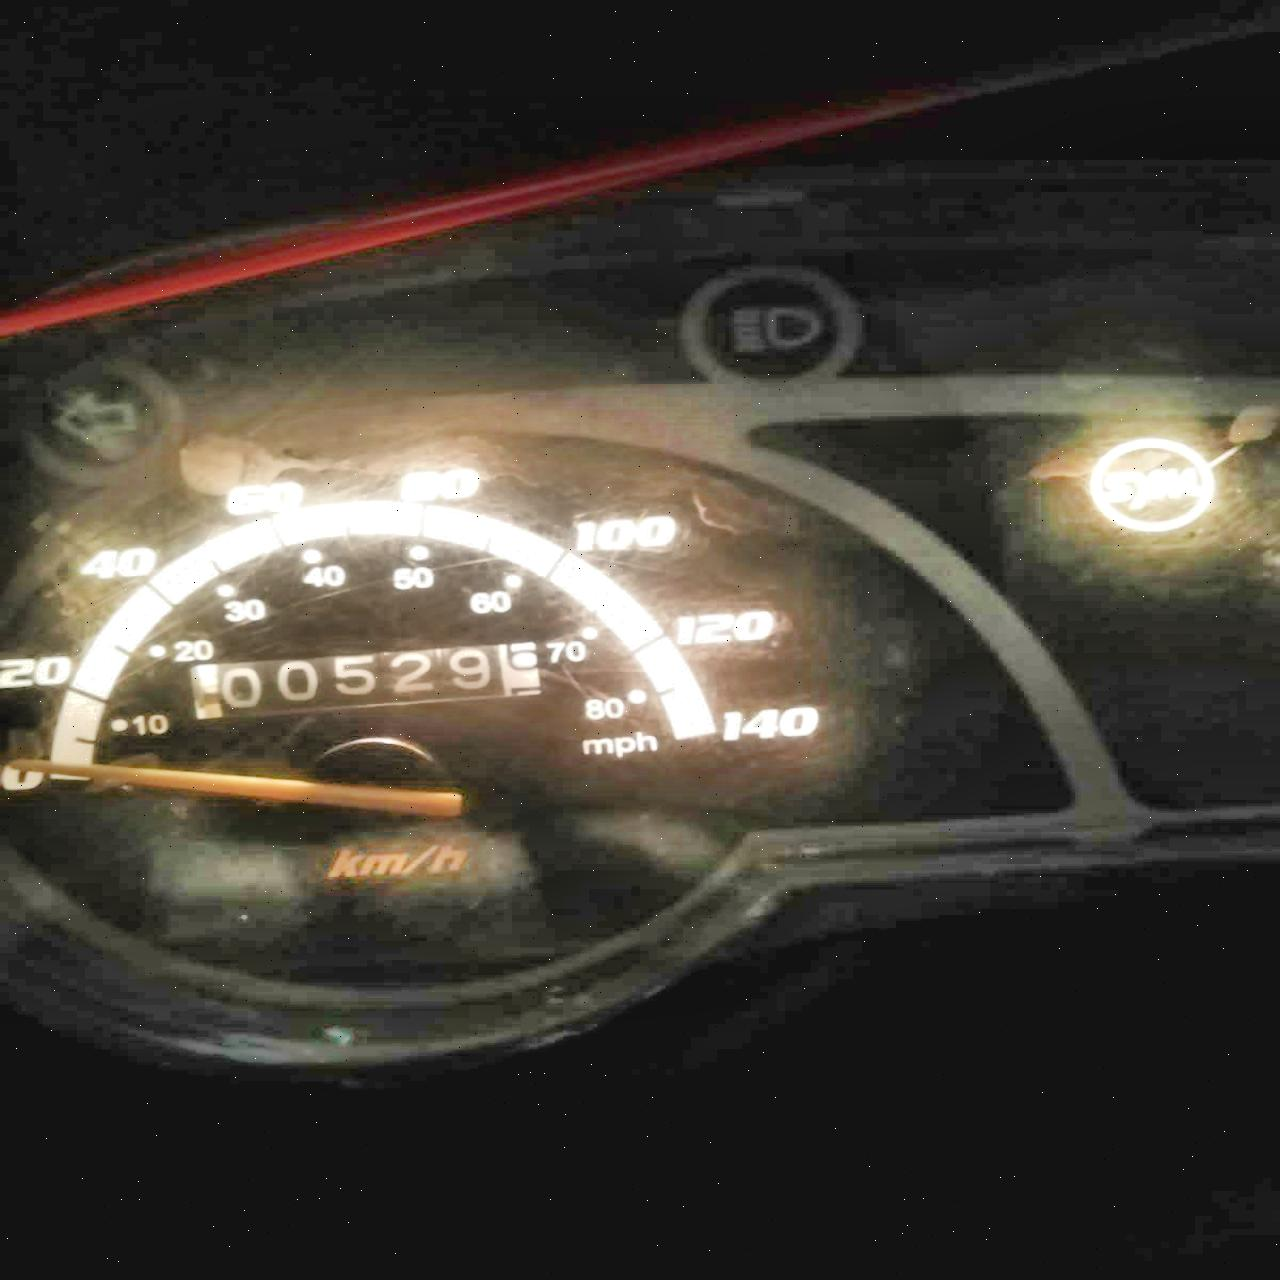0: (220, 666, 263, 709), (277, 659, 316, 702), (192, 639, 215, 661)
2: (389, 651, 434, 692)
5: (332, 654, 375, 695)
6: (505, 635, 540, 670)
9: (448, 648, 490, 689)
odometer: (184, 636, 543, 723)
